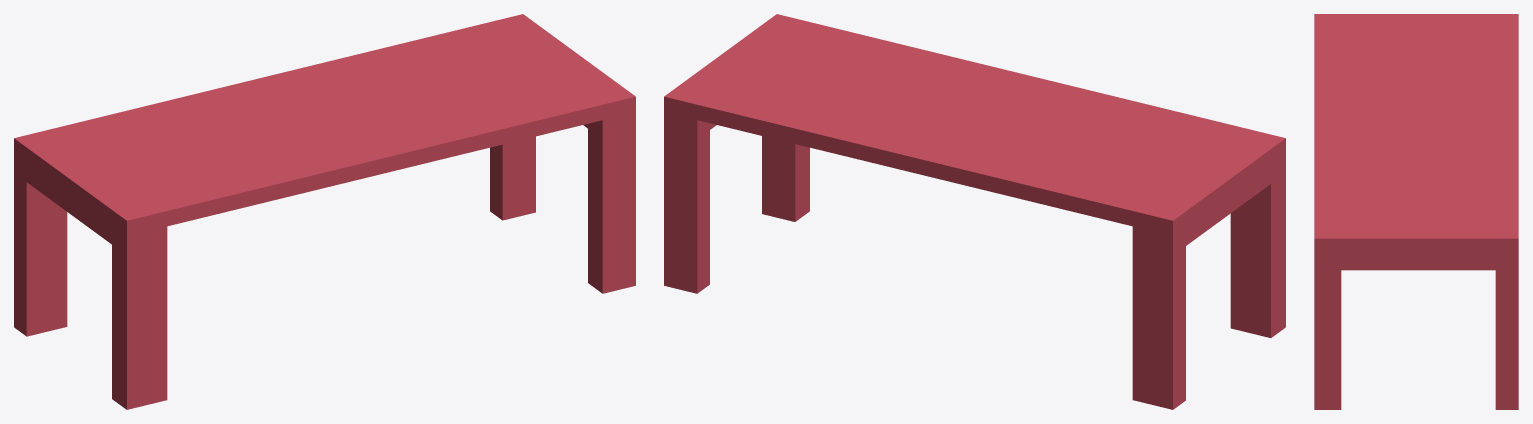
File: TableModel149.glb
3 renders of one model, left to right at view 1: azimuth 30°, elevation 25°; view 2: azimuth 150°, elevation 25°; view 3: azimuth 270°, elevation 25°, orthographic. The views are drawn at different scales.
Parts seen in each view (by area): view 1: Mesh_Mesh_head_geo.001_lambert2SG.001; view 2: Mesh_Mesh_head_geo.001_lambert2SG.001; view 3: Mesh_Mesh_head_geo.001_lambert2SG.001.
Part boxes in pixels (<box>): Mesh_Mesh_head_geo.001_lambert2SG.001: <box>14,14,635,409</box>; Mesh_Mesh_head_geo.001_lambert2SG.001: <box>664,14,1285,409</box>; Mesh_Mesh_head_geo.001_lambert2SG.001: <box>1314,14,1518,409</box>.
Bounding box in the file's own units: 138 × 49 × 53.
